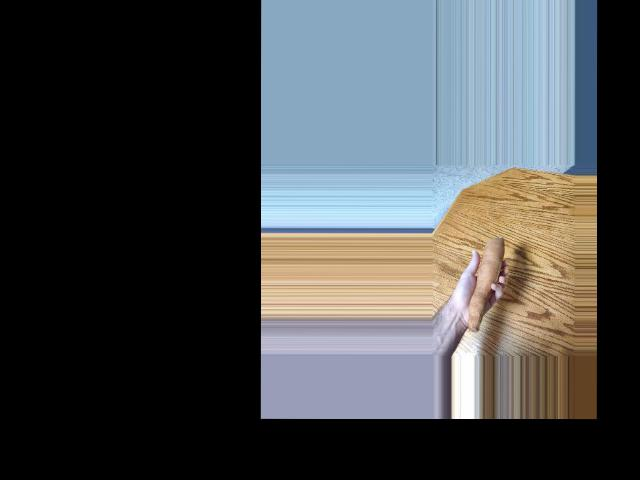sweet_potato: (467, 236, 508, 341)
